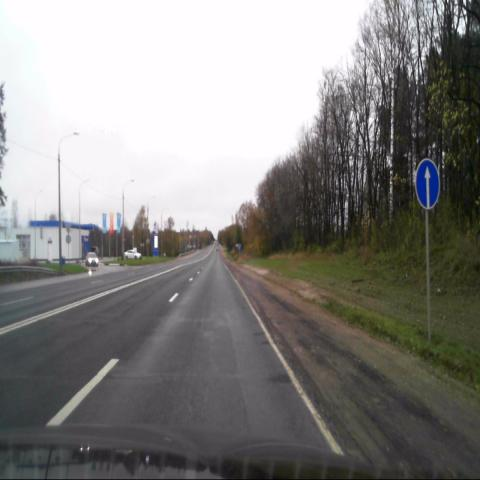4_1_1: (415, 158, 436, 208)
